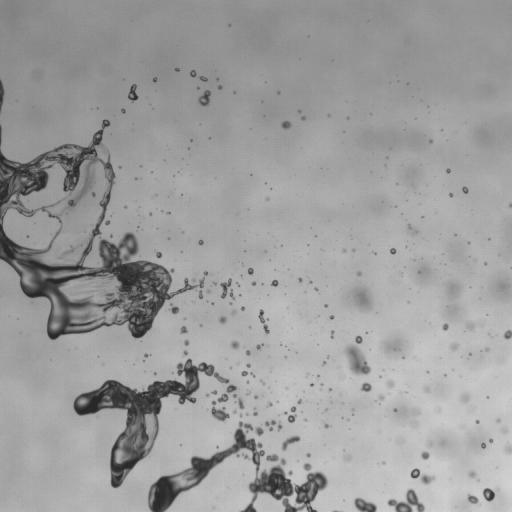droplet: (387, 488, 424, 511), (354, 287, 372, 312), (354, 497, 377, 511), (220, 279, 234, 298), (447, 283, 461, 296), (198, 90, 210, 105), (265, 420, 281, 431), (128, 84, 138, 101), (483, 488, 495, 501), (467, 494, 479, 504), (360, 382, 371, 391), (466, 321, 475, 330), (237, 398, 244, 409), (504, 443, 511, 454), (281, 121, 290, 129), (461, 393, 469, 402), (170, 305, 178, 313), (386, 380, 394, 388), (421, 451, 429, 459), (504, 330, 511, 339), (230, 341, 239, 348), (218, 316, 226, 323), (180, 326, 187, 333), (190, 70, 196, 77), (462, 186, 468, 193), (155, 252, 162, 258), (271, 280, 278, 286), (442, 323, 448, 330), (344, 455, 351, 461), (468, 471, 475, 477), (390, 248, 396, 254), (451, 343, 457, 349), (200, 76, 207, 81), (248, 268, 253, 274), (256, 344, 262, 349), (241, 371, 247, 376), (378, 395, 384, 400), (501, 428, 507, 433), (198, 240, 203, 245), (297, 399, 302, 404), (253, 409, 257, 415), (446, 168, 450, 173), (204, 271, 208, 276), (231, 310, 236, 314), (184, 340, 188, 345), (246, 350, 250, 355), (144, 353, 149, 357), (424, 388, 429, 392), (212, 390, 217, 394), (267, 402, 272, 406), (324, 424, 329, 428), (481, 443, 485, 448), (331, 331, 334, 337), (218, 85, 222, 89), (329, 315, 333, 319), (183, 351, 187, 355), (416, 410, 420, 414), (413, 421, 417, 425), (175, 68, 179, 71), (153, 77, 156, 81), (121, 109, 125, 112), (357, 272, 361, 275), (207, 289, 210, 293), (241, 306, 244, 310), (251, 373, 254, 377), (496, 419, 500, 422), (307, 453, 310, 457), (302, 116, 305, 119), (449, 193, 452, 196), (299, 278, 302, 281), (252, 282, 255, 285), (322, 362, 325, 365), (247, 364, 250, 367), (261, 381, 264, 384), (310, 383, 313, 386), (233, 394, 236, 397), (254, 395, 257, 398), (233, 410, 236, 413), (476, 420, 479, 423), (489, 439, 492, 442), (509, 203, 511, 207), (343, 249, 345, 252), (214, 282, 216, 285), (236, 283, 239, 285), (315, 287, 317, 290), (486, 348, 488, 351), (394, 408, 396, 411), (430, 140, 432, 142), (247, 392, 249, 394), (382, 462, 384, 464)
ligament: (0, 119, 203, 339), (73, 358, 229, 487), (148, 421, 327, 511), (344, 336, 370, 374), (210, 384, 236, 421), (410, 468, 435, 484), (281, 435, 300, 450), (258, 309, 269, 334), (59, 247, 75, 259), (0, 79, 4, 113), (288, 406, 296, 422), (408, 225, 417, 233), (0, 125, 1, 142), (333, 510, 339, 511)
